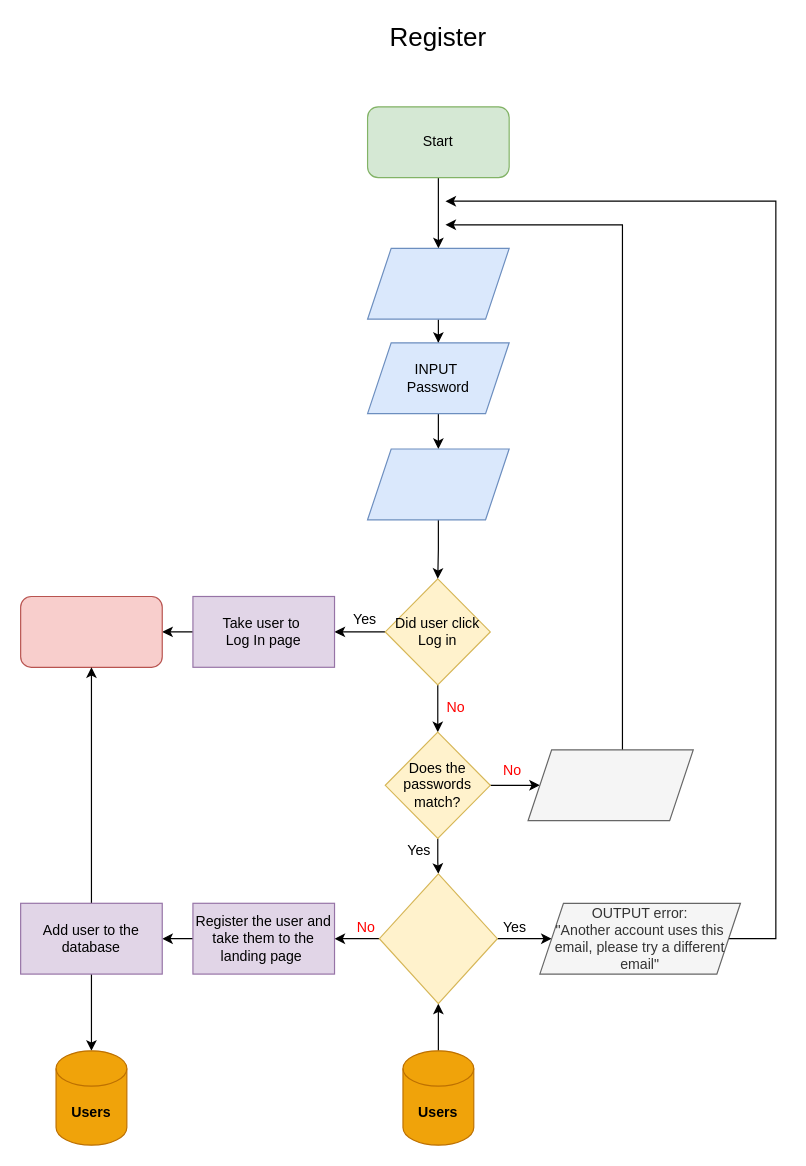
Image size: 806x1166. Some labels were removed from this diagram. The shapes that lost their labels are listed below. From the top down, each one's box as (x1, y1, x2, y2) in pixels, then its label:
(366, 247, 509, 319): INPUT Email
(366, 448, 509, 520): INPUT Confirm Password
(19, 595, 162, 667): End
(527, 749, 693, 821): OUTPUT error: "Passwords does not match"
(378, 873, 497, 1004): Has the email been registered before?
